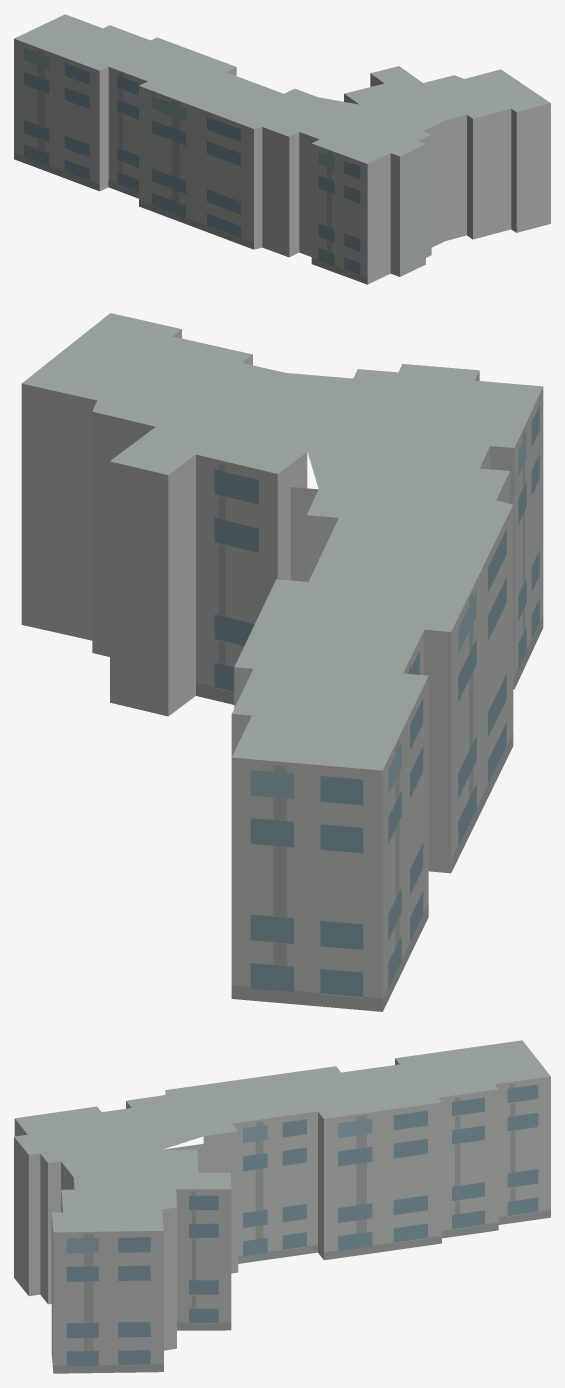
The model's file is residential-0ce01a25-f265-47b1-9810-3c68e7120b34.glb.
3 views of the same model, one above another, from view 1: azimuth 30°, elevation 25°; view 2: azimuth 150°, elevation 25°; view 3: azimuth 270°, elevation 25° (orthographic). The views are drawn at different scales.
Visible parts, largest first — view 1: residential-0ce01a25-f265-47b1-9810-3c68e7120b34.tmp; view 2: residential-0ce01a25-f265-47b1-9810-3c68e7120b34.tmp; view 3: residential-0ce01a25-f265-47b1-9810-3c68e7120b34.tmp.
Boxes of the visible parts, x1,y1,x2,y2 form: residential-0ce01a25-f265-47b1-9810-3c68e7120b34.tmp: (14, 14, 550, 284); residential-0ce01a25-f265-47b1-9810-3c68e7120b34.tmp: (21, 313, 543, 1011); residential-0ce01a25-f265-47b1-9810-3c68e7120b34.tmp: (14, 1040, 550, 1373).
Bounding box in the file's own units: 44.53 × 15.25 × 52.56.
